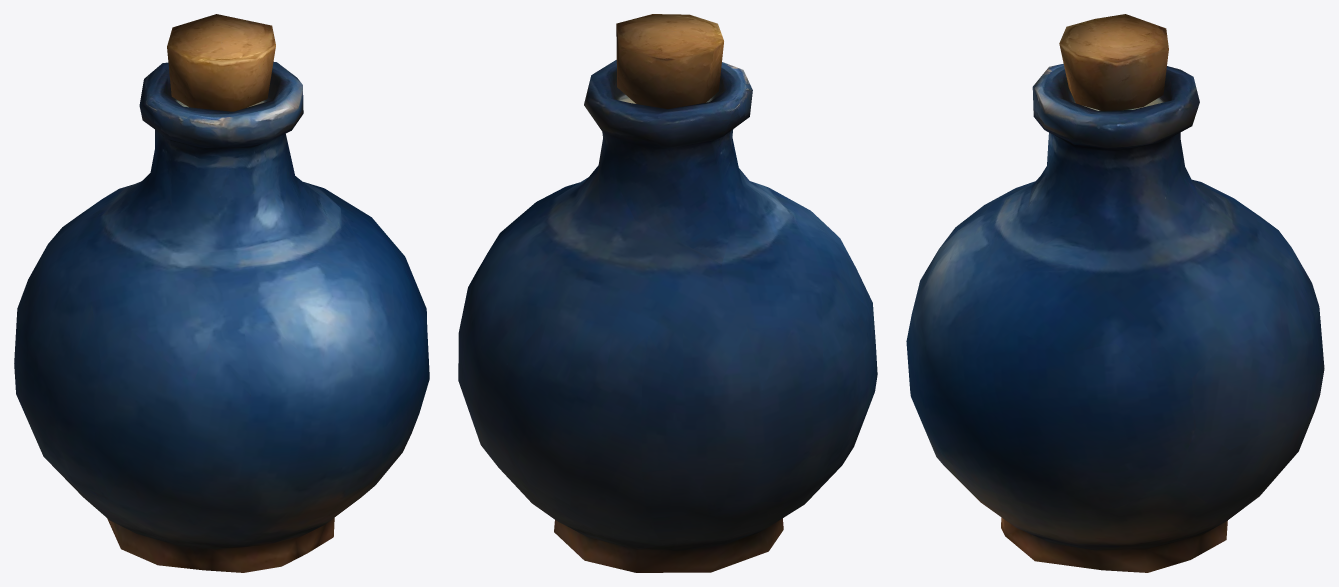
The model's file is agua-desktop.glb.
3 views of the same model, side by side, from view 1: azimuth 30°, elevation 25°; view 2: azimuth 150°, elevation 25°; view 3: azimuth 270°, elevation 25° (orthographic).
Visible parts, largest first — view 1: tripo_node_2e922187-b430-4e3e-95f0-1070b065f118; view 2: tripo_node_2e922187-b430-4e3e-95f0-1070b065f118; view 3: tripo_node_2e922187-b430-4e3e-95f0-1070b065f118.
Part boxes in pixels (left/top/right/bottom): tripo_node_2e922187-b430-4e3e-95f0-1070b065f118: left=14, top=14, right=429, bottom=572; tripo_node_2e922187-b430-4e3e-95f0-1070b065f118: left=458, top=14, right=877, bottom=572; tripo_node_2e922187-b430-4e3e-95f0-1070b065f118: left=906, top=14, right=1324, bottom=572.
Bounding box in the file's own units: 0.7533 × 0.9786 × 0.7557.
1 material, 1 textured.
